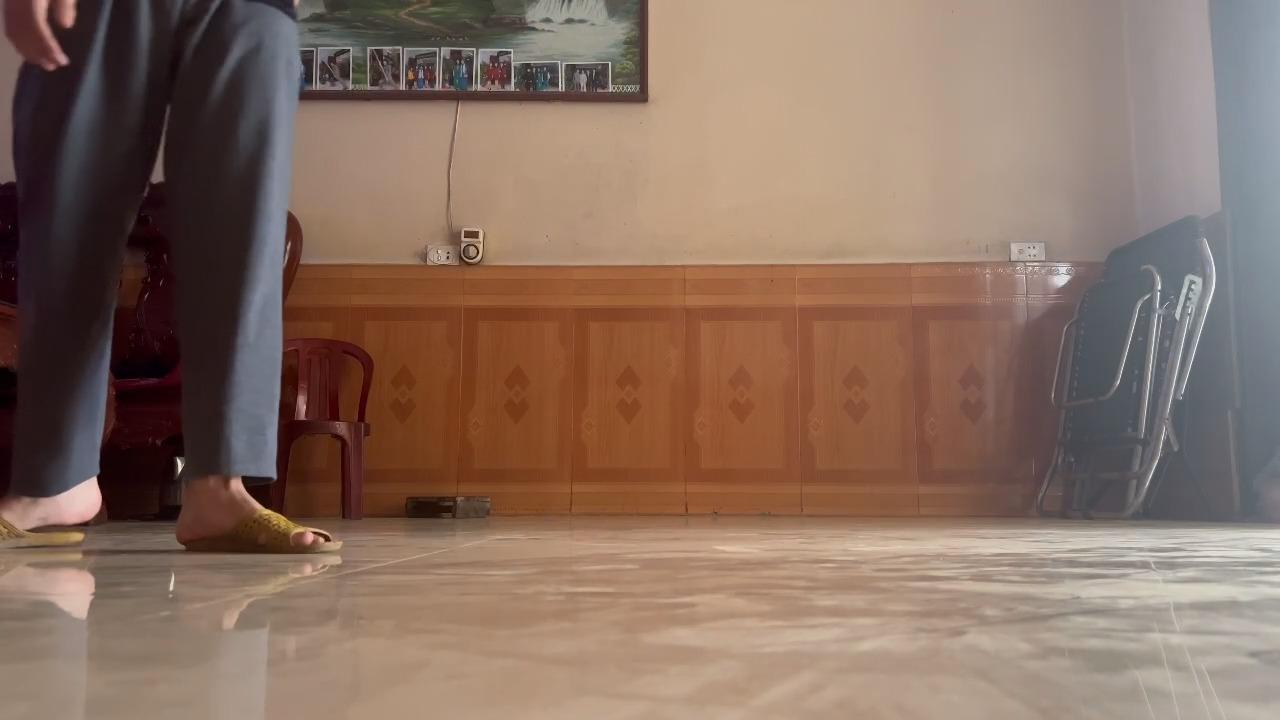no-boot: (172, 487, 348, 564), (0, 482, 117, 557)
